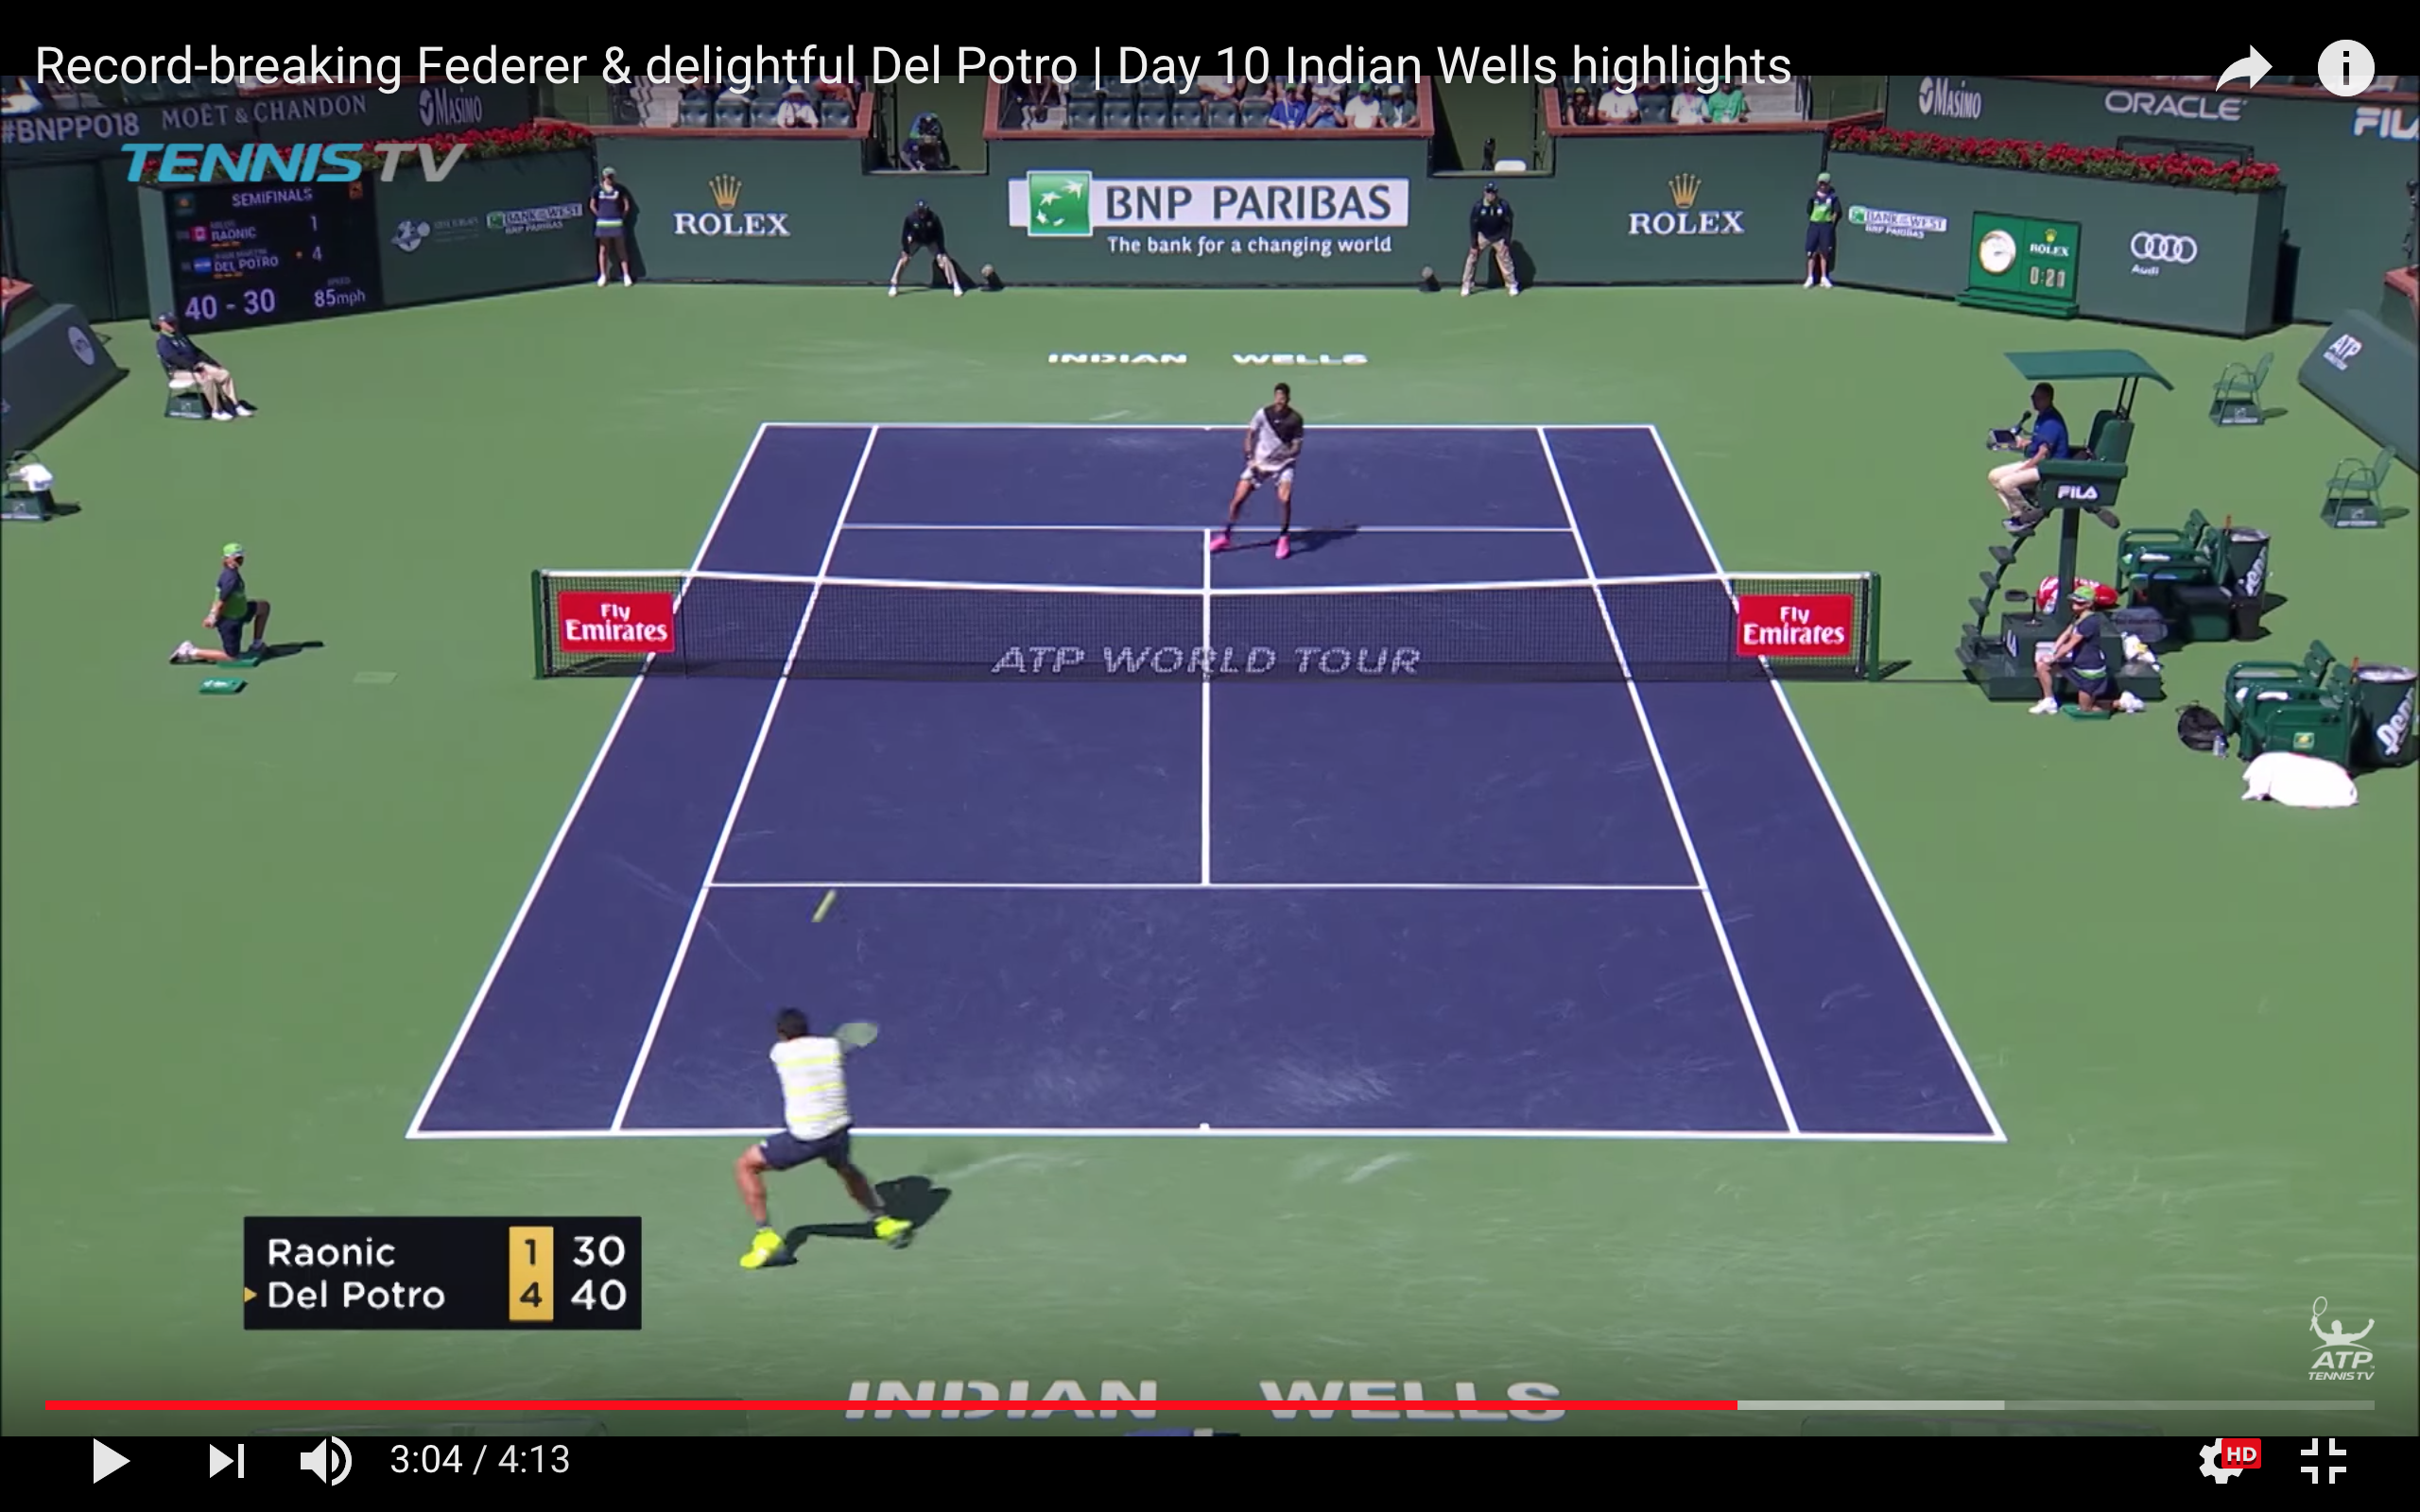tennis ball: (803, 892, 849, 930)
tennis player: (727, 1007, 919, 1275), (1208, 376, 1310, 571)
